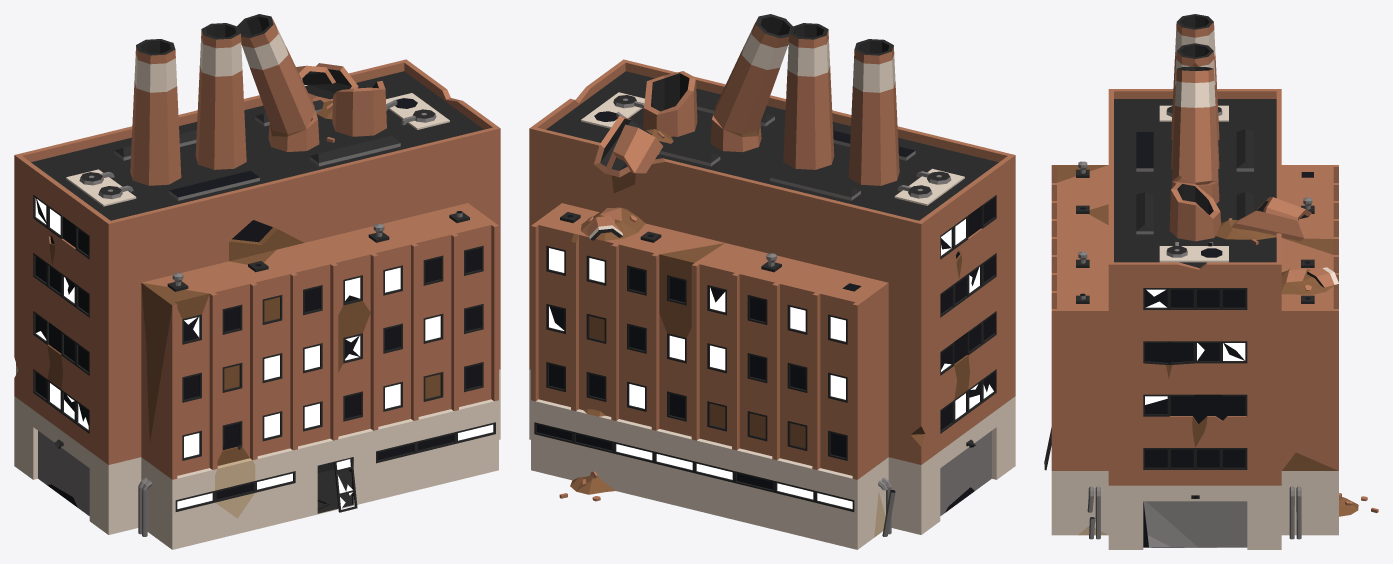
The model's file is apocalypse-industry-factory-apocalypse.glb.
3 views of the same model, side by side, from view 1: azimuth 30°, elevation 25°; view 2: azimuth 150°, elevation 25°; view 3: azimuth 270°, elevation 25° (orthographic). The views are drawn at different scales.
Parts seen in each view (by area): view 1: industry-factory-apocalypse; view 2: industry-factory-apocalypse; view 3: industry-factory-apocalypse.
Part boxes in pixels (box(x1,y1,x2,y2)): industry-factory-apocalypse: box(14, 14, 500, 549); industry-factory-apocalypse: box(529, 14, 1015, 549); industry-factory-apocalypse: box(1044, 14, 1378, 549).
Size of the model in its own units: 24.77 by 25.36 by 19.32.
